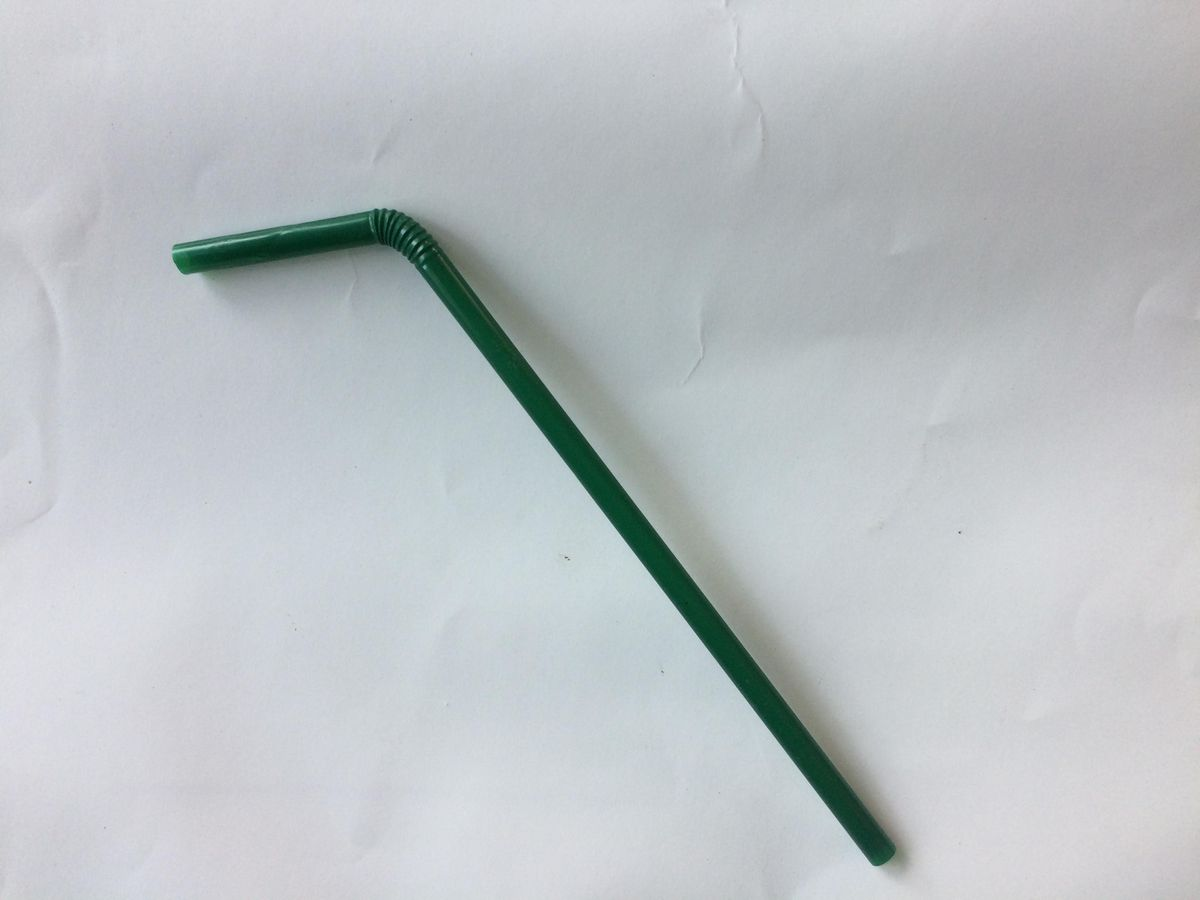Drinking Straw: (168, 202, 905, 870)
